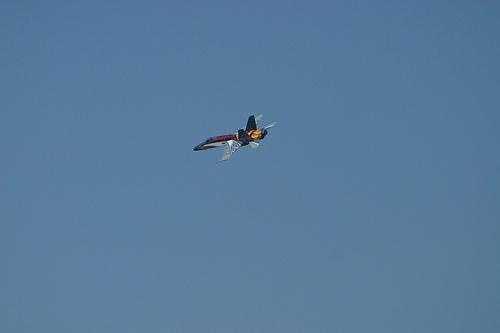aeroplane: (193, 114, 278, 164)
